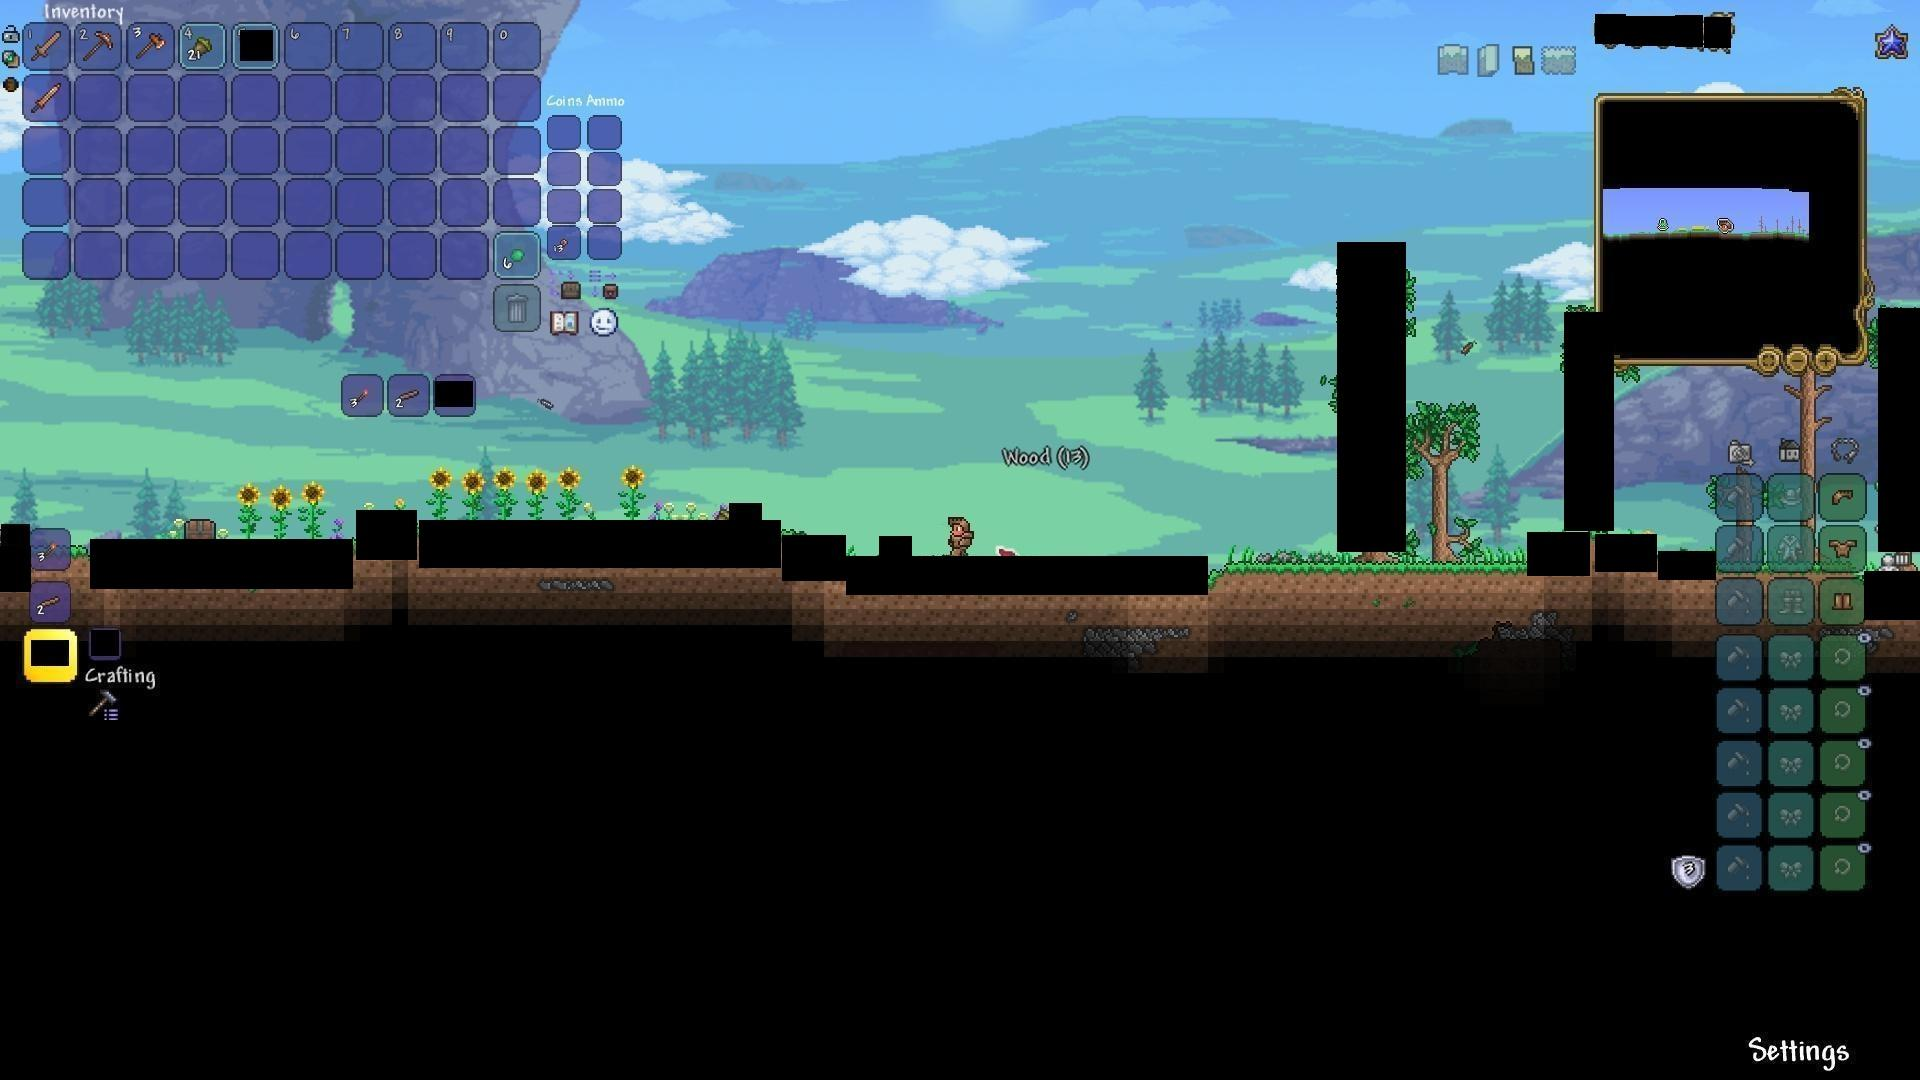breastplate: (1829, 537, 1859, 558)
dirt: (1213, 555, 1524, 597)
helmet: (1828, 483, 1859, 512)
legs: (1832, 588, 1855, 615)
tree: (1403, 389, 1484, 554)
